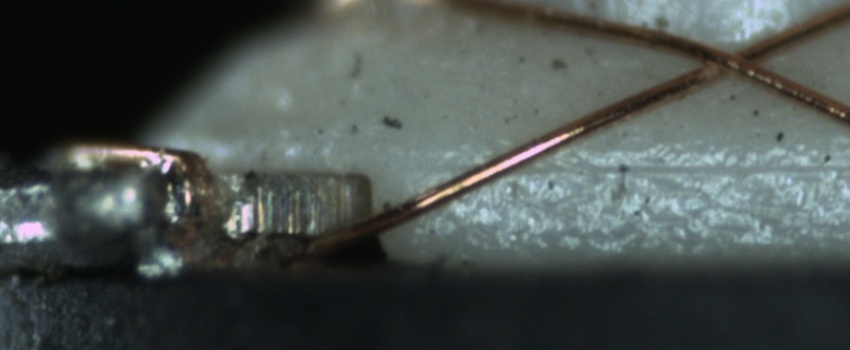CL: (688, 35, 781, 86)
DL: (433, 132, 849, 194)
TE: (58, 137, 213, 241)
